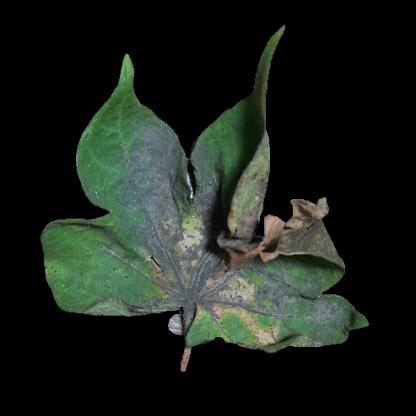sooty: (127, 145, 188, 242), (173, 243, 260, 307), (261, 276, 337, 338)
